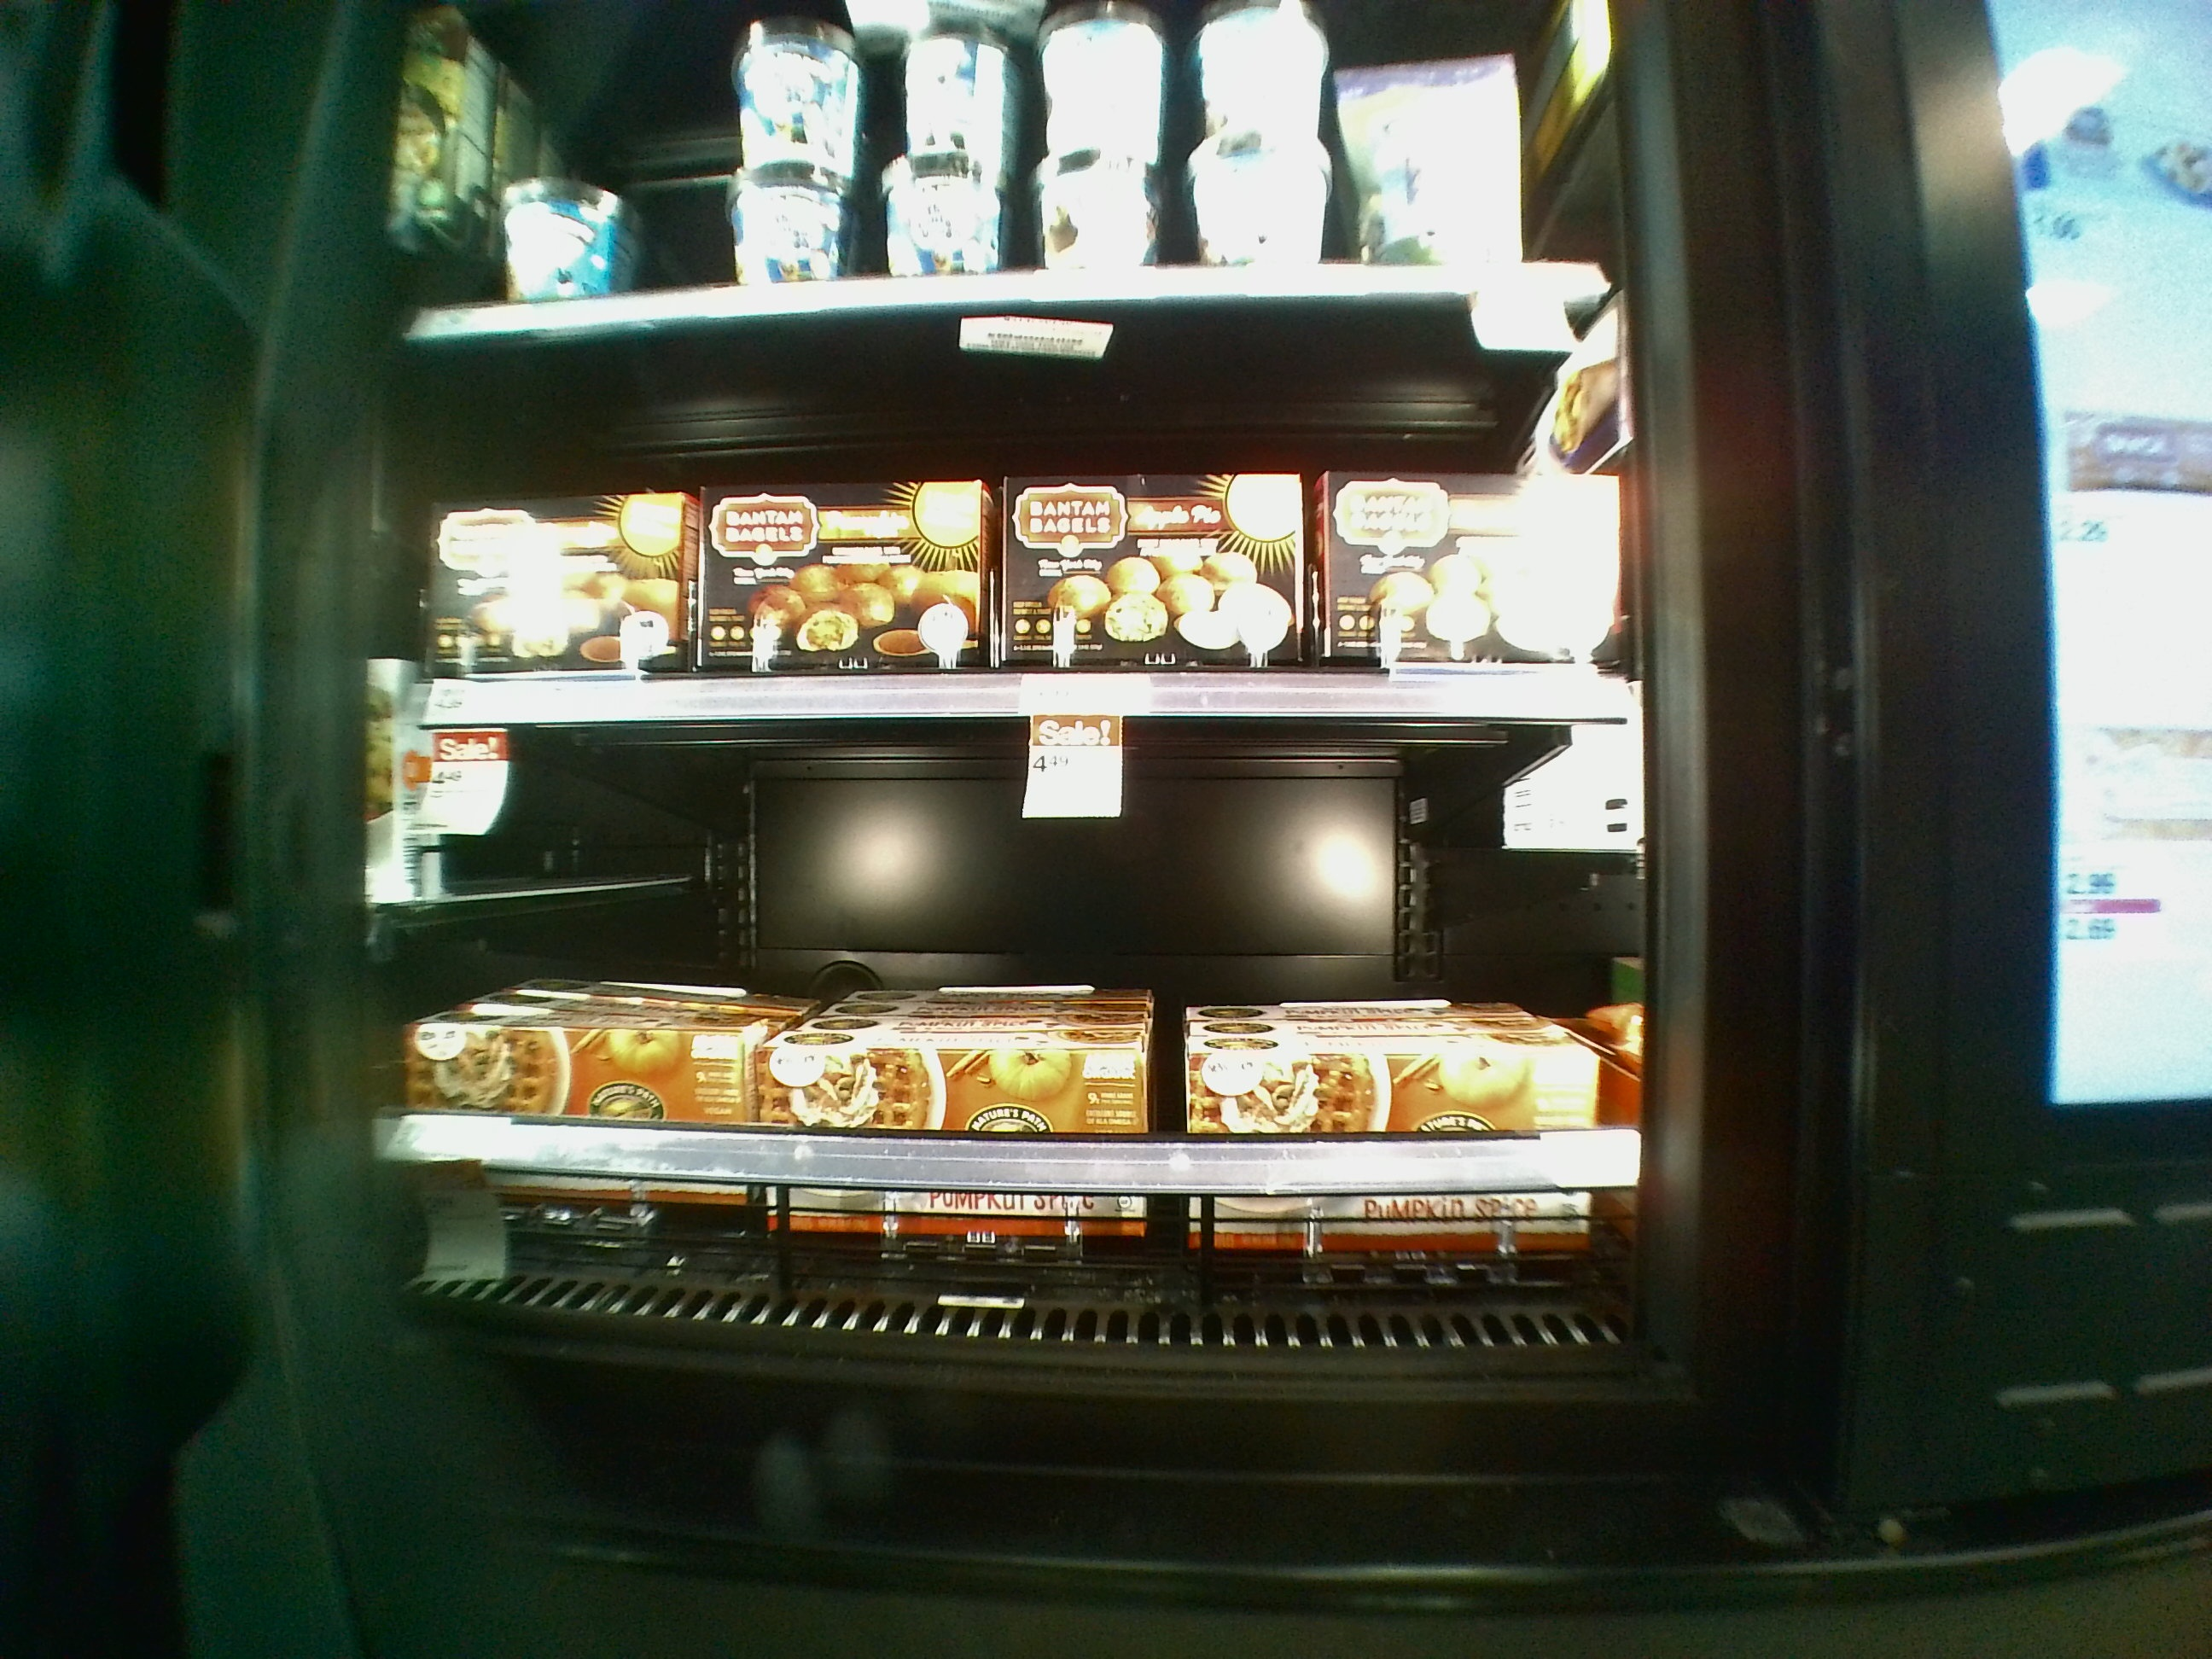shelf: (371, 694, 1641, 1345), (371, 305, 1639, 727)
